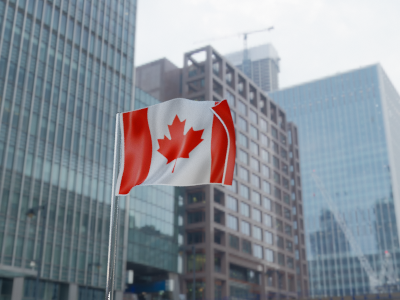Canada flag: (114, 97, 236, 196)
